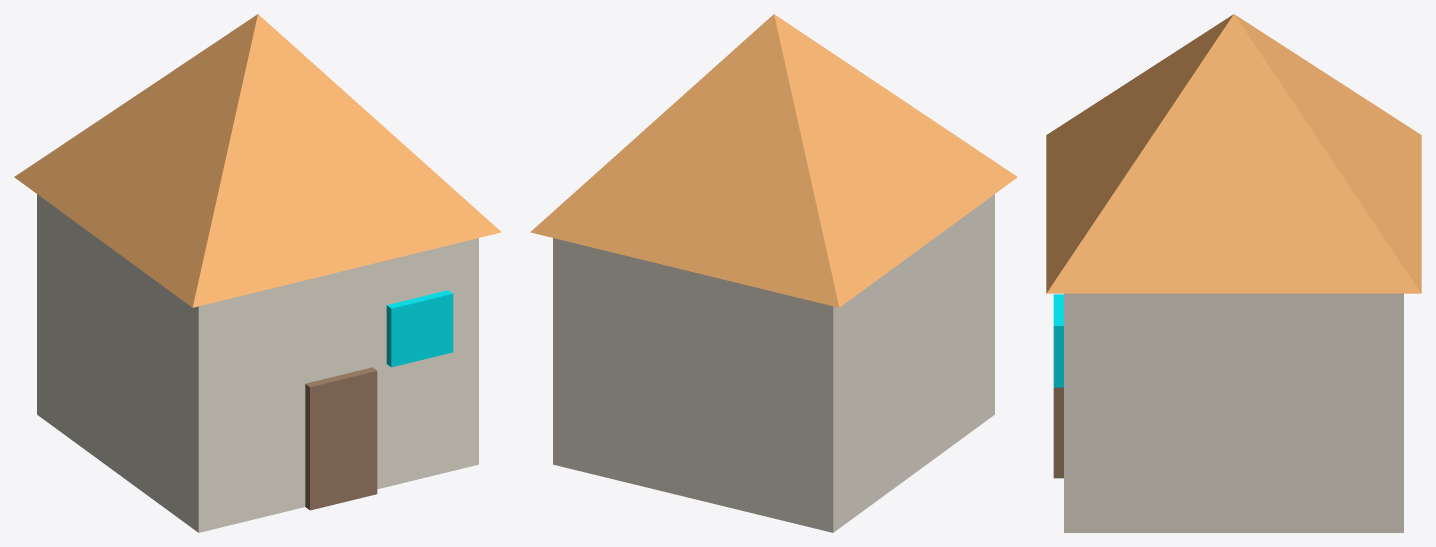
File: casa.glb
The picture shows the model from 3 angles, left to right: view 1: azimuth 30°, elevation 25°; view 2: azimuth 150°, elevation 25°; view 3: azimuth 270°, elevation 25°; orthographic projection. The views are drawn at different scales.
Visible parts, largest first — view 1: modelo; view 2: modelo; view 3: modelo.
Part boxes in pixels (bbox=[...]): modelo: bbox=[14, 14, 501, 532]; modelo: bbox=[530, 14, 1017, 532]; modelo: bbox=[1046, 14, 1421, 532].
Bounding box in the file's own units: 1.1 × 1.45 × 1.1.
